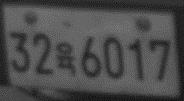0: (102, 35, 125, 79)
1: (128, 37, 146, 83)
2: (31, 32, 54, 76)
3: (7, 29, 30, 73)
6: (80, 35, 101, 77)
7: (147, 38, 171, 82)
육: (54, 41, 78, 77)
